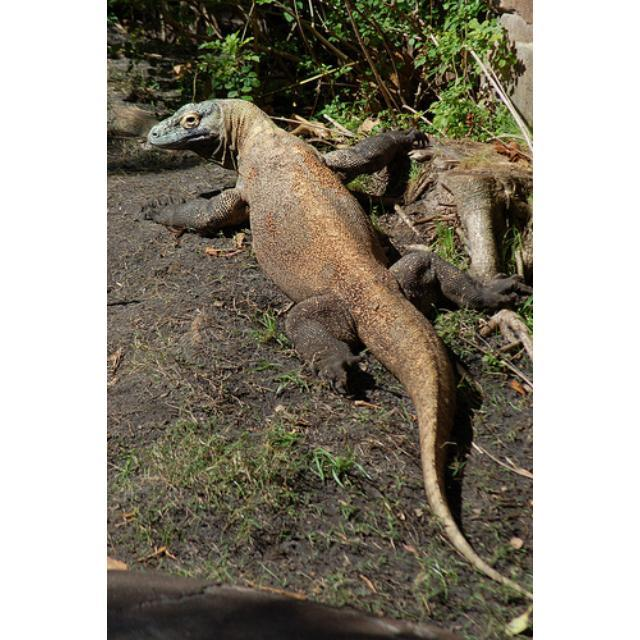KomodoDragon: (138, 96, 528, 610)
